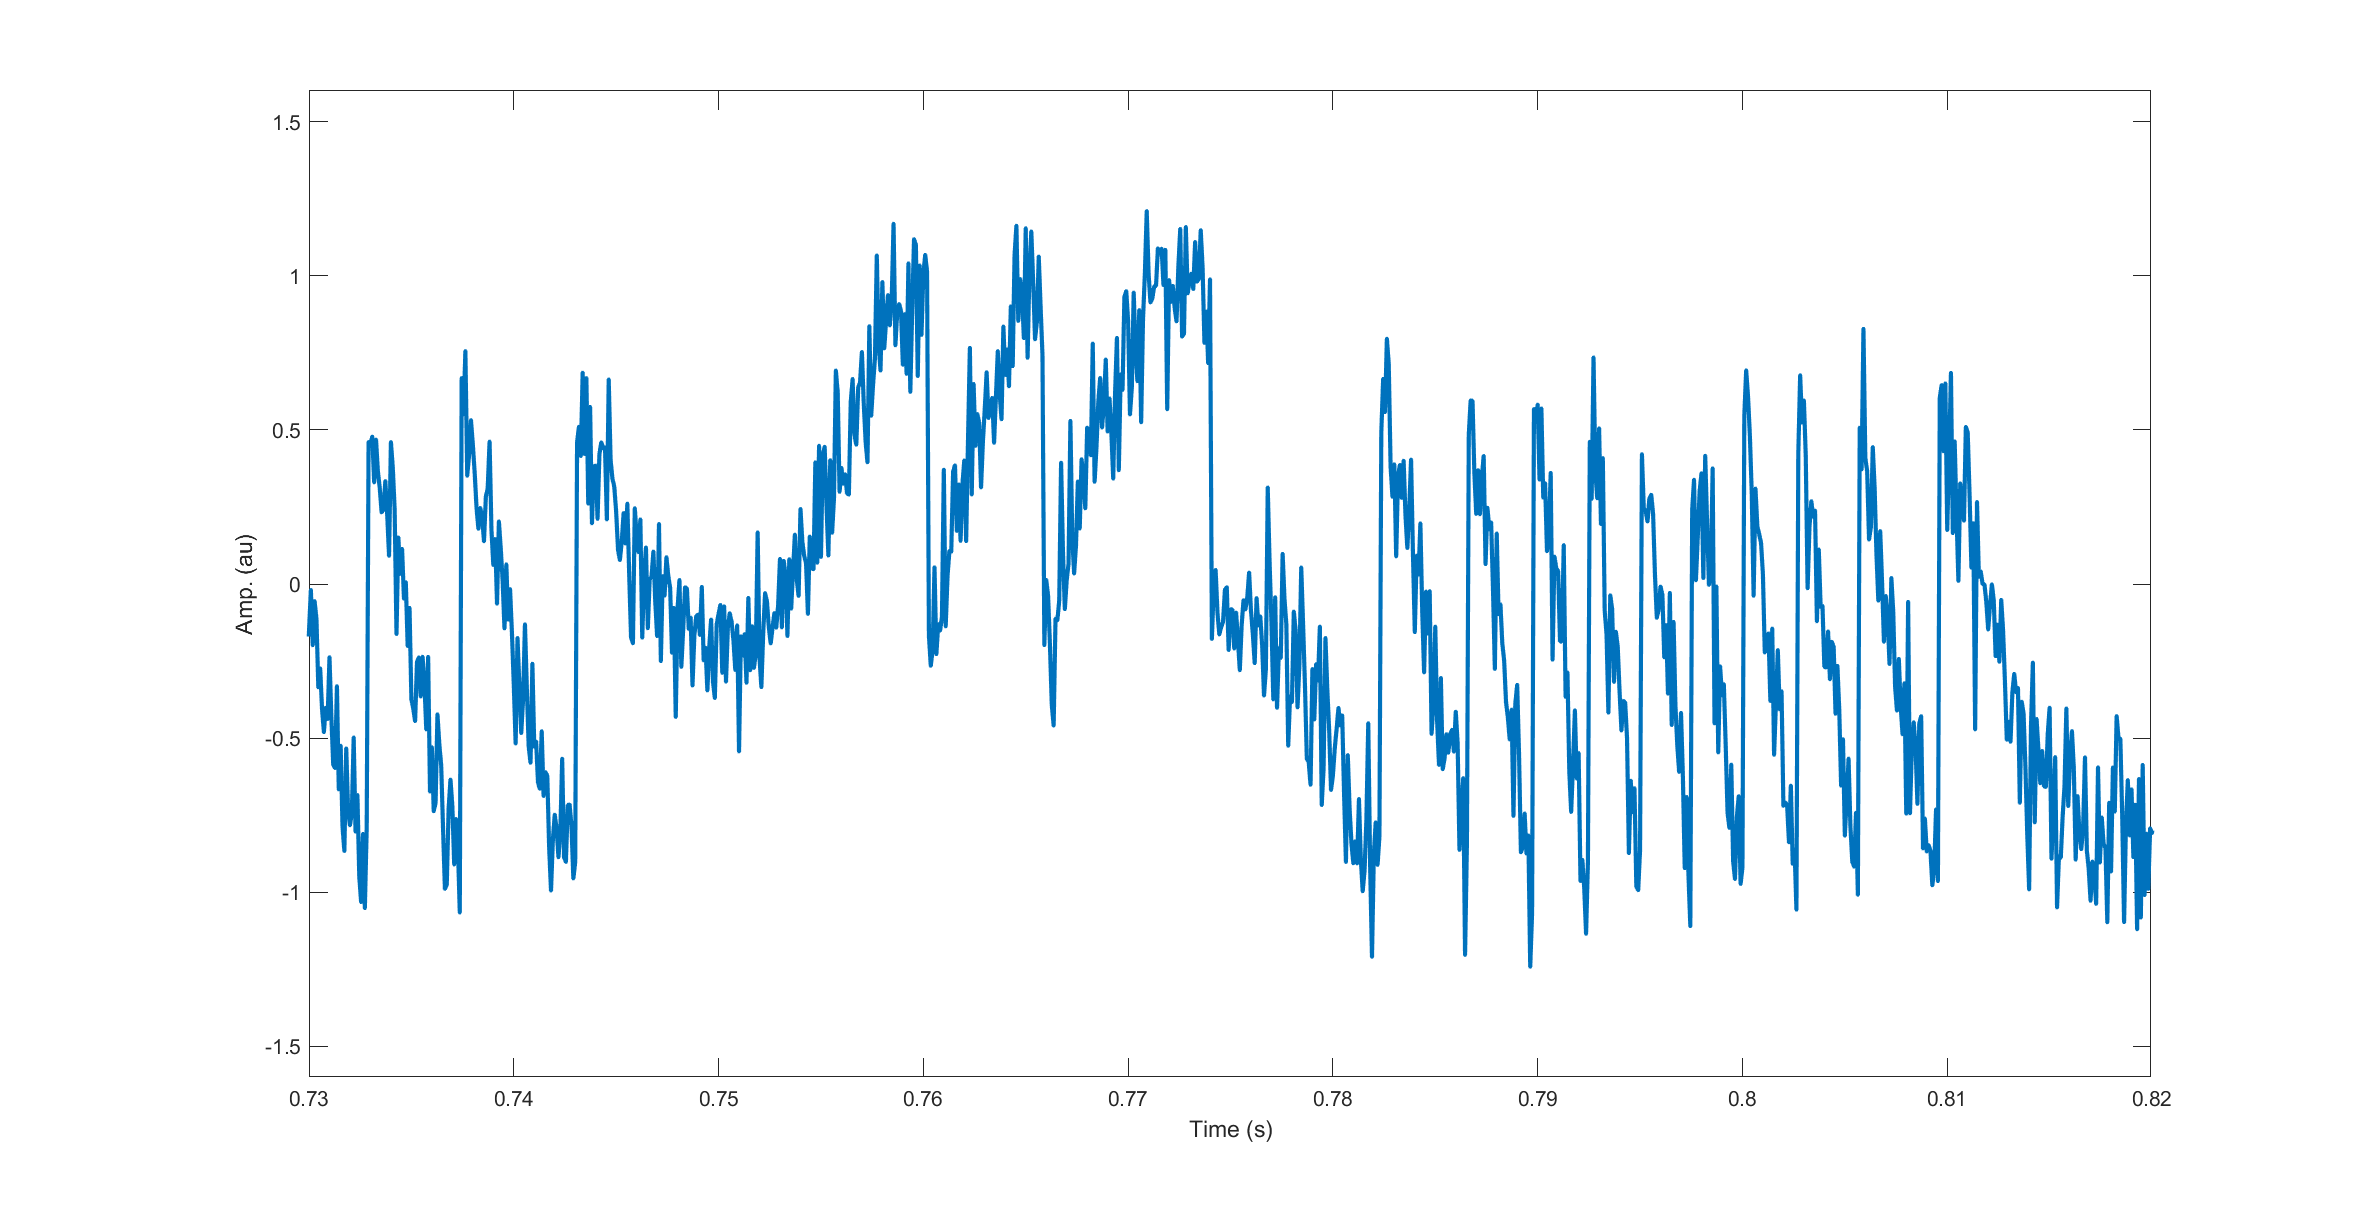negative_fringe: (1930, 372, 2049, 901), (449, 332, 554, 901), (563, 353, 670, 901), (1356, 329, 1447, 968), (355, 407, 443, 898), (1850, 318, 1921, 895), (1454, 403, 1515, 945), (1731, 363, 1789, 895), (1522, 411, 1576, 972), (1792, 363, 1846, 900), (1579, 343, 1626, 935), (1633, 428, 1682, 923), (1688, 435, 1735, 921)
positive_fringe: (1057, 198, 1219, 650), (796, 210, 937, 647), (944, 218, 1056, 736)
